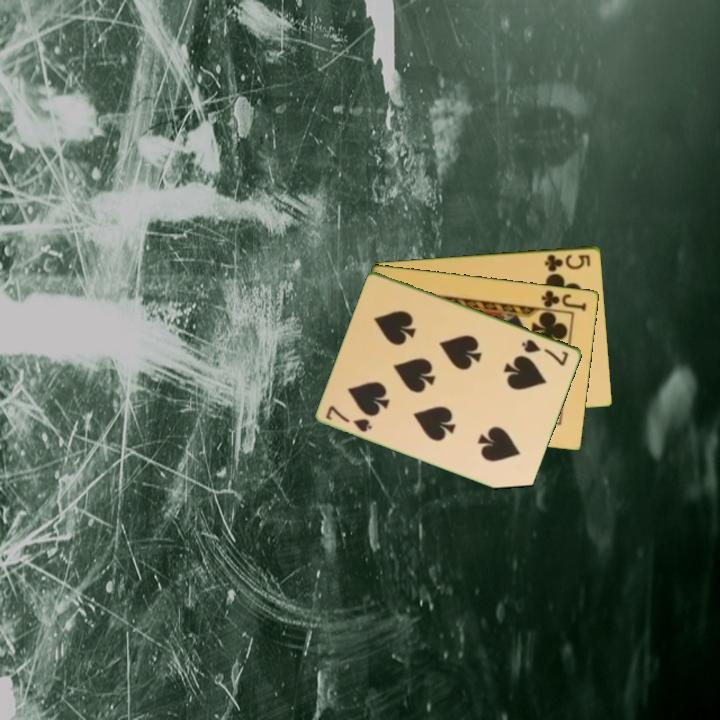5c: (541, 251, 594, 274)
7s: (519, 336, 572, 369), (322, 402, 375, 435)
Jc: (538, 286, 589, 313)
